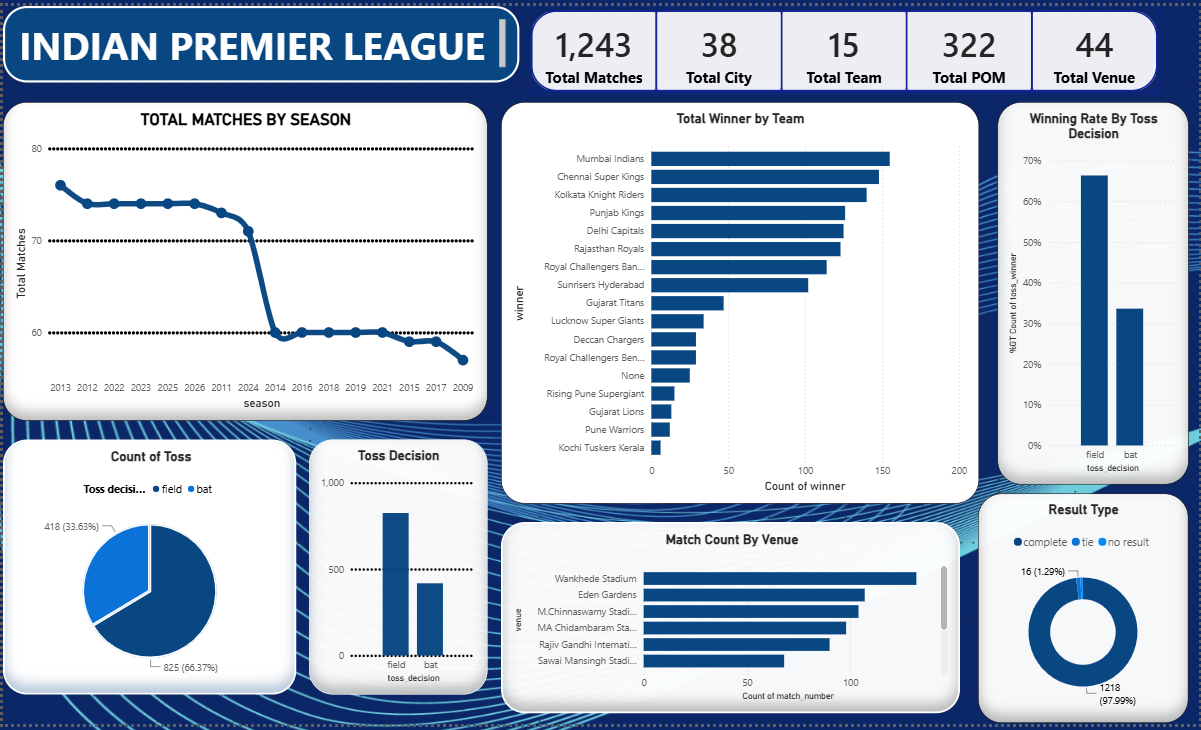

Layout of this report page (visuals, bound fields, positions):
{"tool":"powerbi","page":{"name":"Total Season","canvas":[1500,900],"ordinal":0},"visuals":[{"type":"cardVisual","fields":{"Data":["ipl_comprehensive_dataset.Total Matches","ipl_comprehensive_dataset.Total City","ipl_comprehensive_dataset.Total Team","ipl_comprehensive_dataset.Total POM","ipl_comprehensive_dataset.Total Venue"]},"box":[656,0,800,112],"z":0},{"type":"textbox","box":[0,0,648,96],"z":1000},{"type":"lineChart","title":"TOTAL MATCHES BY SEASON","fields":{"Category":["ipl_comprehensive_dataset.season"],"Y":["ipl_comprehensive_dataset.Total Matches"]},"box":[0,120,608,400],"z":2000},{"type":"barChart","title":"Total Winner by Team","fields":{"Category":["ipl_comprehensive_dataset.winner"],"Y":["CountNonNull(ipl_comprehensive_dataset.winner)"]},"box":[624,120,600,504],"z":3000},{"type":"pieChart","title":"Count of Toss","fields":{"Category":["ipl_comprehensive_dataset.toss_decision"],"Y":["CountNonNull(ipl_comprehensive_dataset.toss_decision)"]},"box":[0,544,368,320],"z":4000},{"type":"columnChart","title":"Toss Decision","fields":{"Category":["ipl_comprehensive_dataset.toss_decision"],"Y":["CountNonNull(ipl_comprehensive_dataset.toss_decision)"]},"box":[384,544,224,320],"z":5000},{"type":"barChart","title":"Match Count By Venue","fields":{"Category":["ipl_comprehensive_dataset.venue"],"Y":["CountNonNull(ipl_comprehensive_dataset.match_number)"]},"box":[624,648,576,240],"z":6000},{"type":"columnChart","title":"Winning Rate By Toss Decision","fields":{"Category":["ipl_comprehensive_dataset.toss_decision"],"Y":["CountNonNull(ipl_comprehensive_dataset.toss_winner)"]},"box":[1248,120,240,480],"z":7000},{"type":"donutChart","title":"Result Type ","fields":{"Category":["ipl_comprehensive_dataset.result_type"],"Y":["CountNonNull(ipl_comprehensive_dataset.result_type)"]},"box":[1224,612,264,288],"z":8000}]}

Visuals, with their boxes in screenshot pixels (x1, y1, x2, y2), scaled from the page's 1500x900 canvas onto the 1201x730 screenshot:
cardVisual - ipl_comprehensive_dataset.Total Matches x ipl_comprehensive_dataset.Total City: select_region(525, 0, 1166, 91)
textbox: select_region(0, 0, 519, 78)
"TOTAL MATCHES BY SEASON" lineChart: select_region(0, 97, 487, 422)
"Total Winner by Team" barChart: select_region(500, 97, 980, 506)
"Count of Toss" pieChart: select_region(0, 441, 295, 701)
"Toss Decision" columnChart: select_region(307, 441, 487, 701)
"Match Count By Venue" barChart: select_region(500, 526, 961, 720)
"Winning Rate By Toss Decision" columnChart: select_region(999, 97, 1191, 487)
"Result Type " donutChart: select_region(980, 496, 1191, 729)
